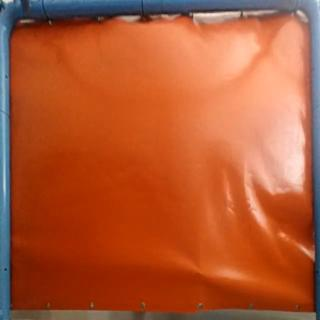Hit-hRxx: (188, 263, 208, 281)
